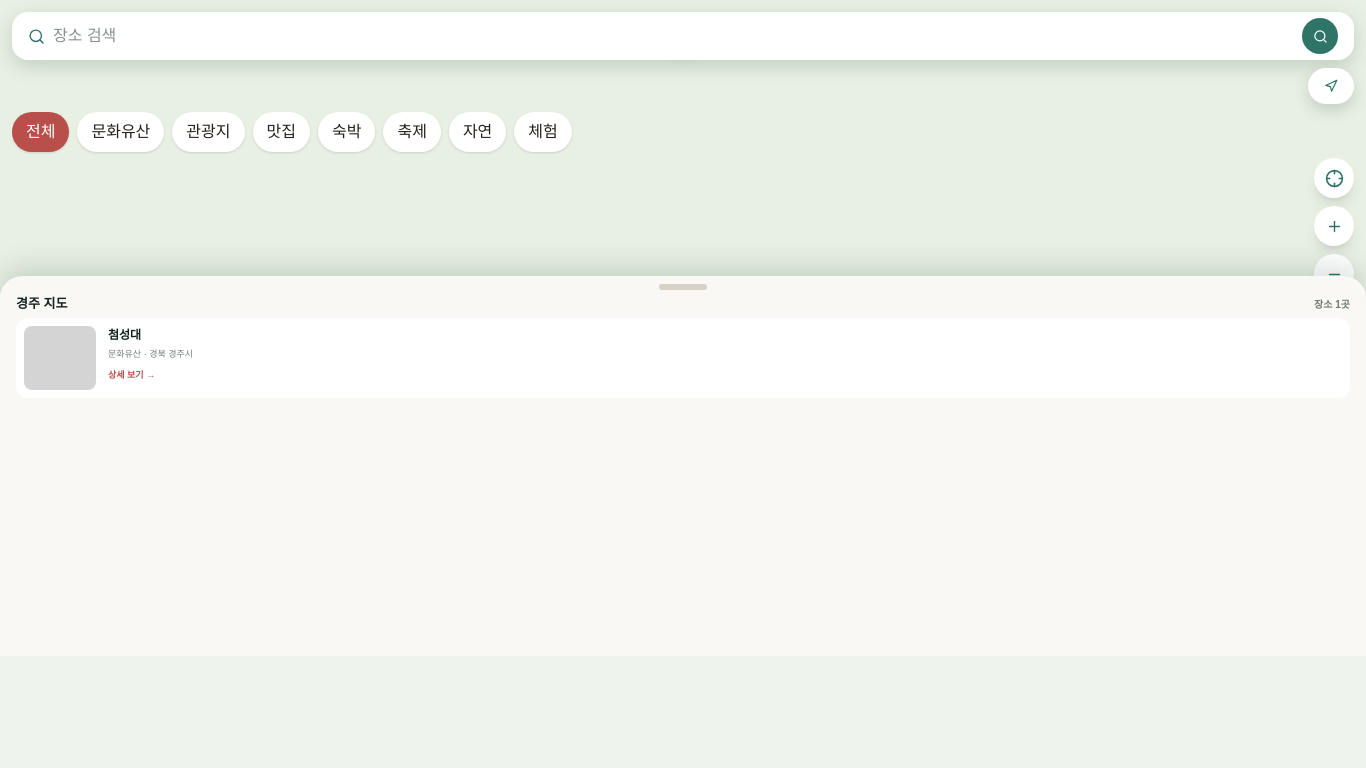
Test: MapPageScreen Kakao search › keeps nature search results whose provider category actually identifies a natural site
Click the button "자연" at (478, 132), box [449, 112, 506, 152]
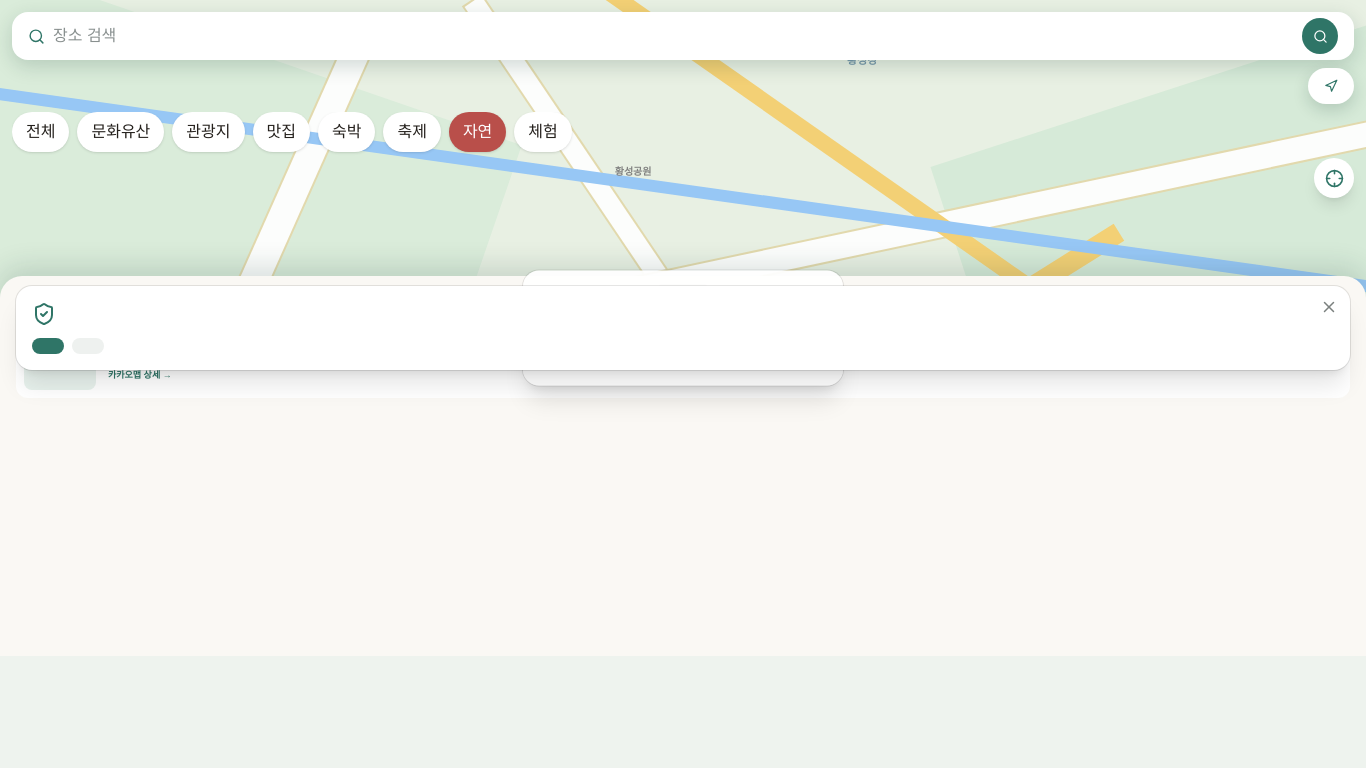
Expected: the link "카카오맵 상세 →" is shown, [108, 369, 172, 382]
